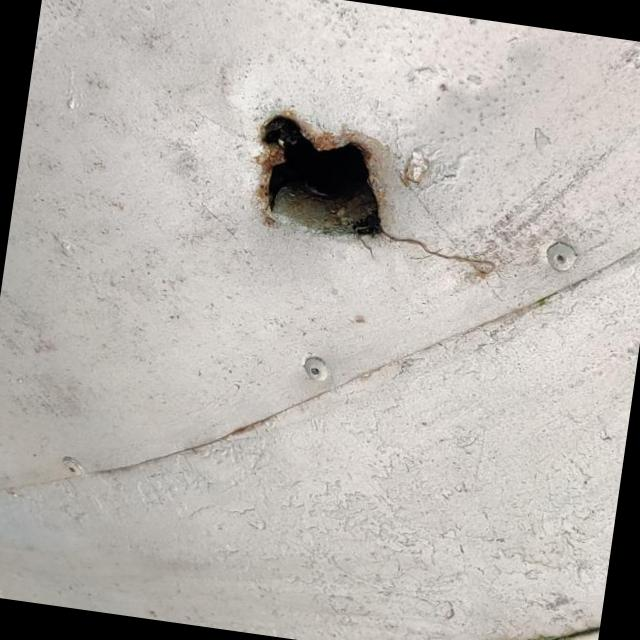Crack: (262, 116, 382, 236)
